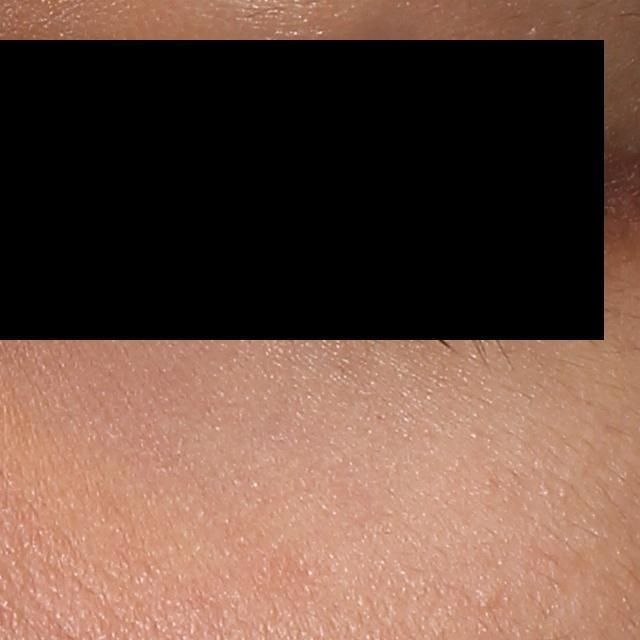comedo: (477, 591, 503, 615)
